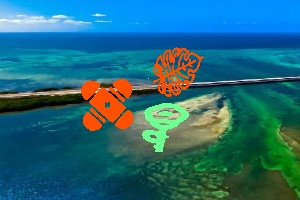大树叶: (151, 47, 202, 95)
空间站模型: (80, 79, 133, 130)
钥匙: (143, 104, 188, 152)
